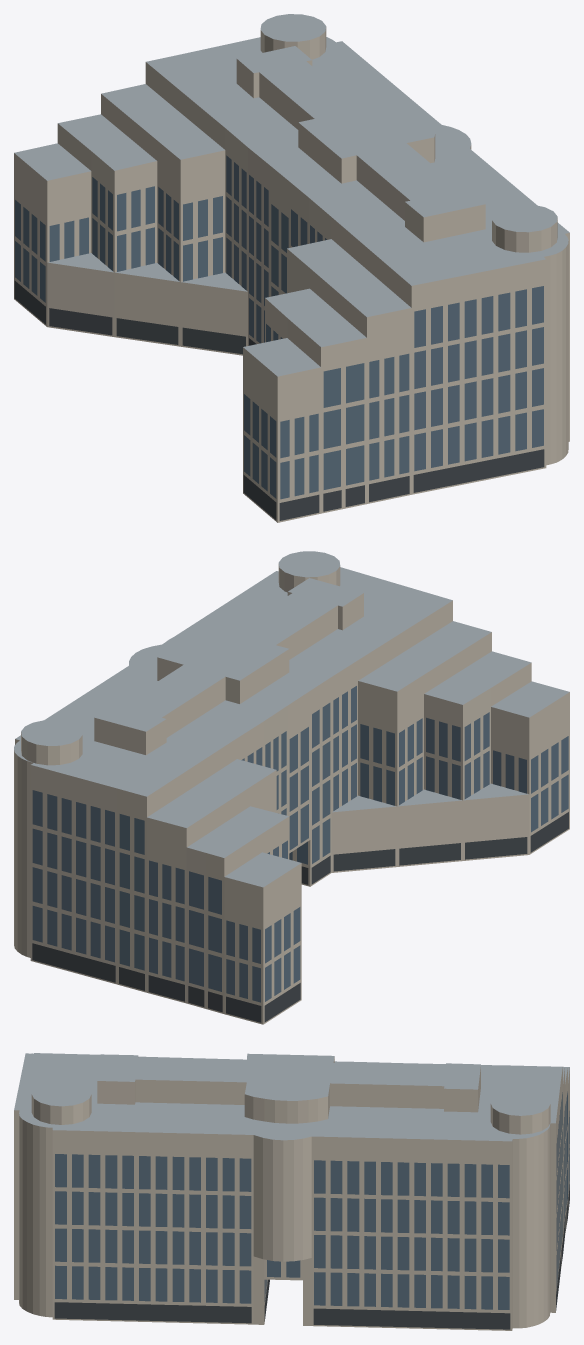
The model's file is clt-401-north-tryon.glb.
The picture shows the model from 3 angles, top to bottom: view 1: azimuth 30°, elevation 25°; view 2: azimuth 150°, elevation 25°; view 3: azimuth 270°, elevation 25°; orthographic projection. The views are drawn at different scales.
Visible parts, largest first — view 1: 401 North Tryon; view 2: 401 North Tryon; view 3: 401 North Tryon.
Part boxes in pixels (x1,y1,x2,y2): 401 North Tryon: (14, 14, 569, 522); 401 North Tryon: (14, 551, 569, 1024); 401 North Tryon: (14, 1053, 569, 1330).
Size of the model in its own units: 68.53 by 46.7 by 111.
